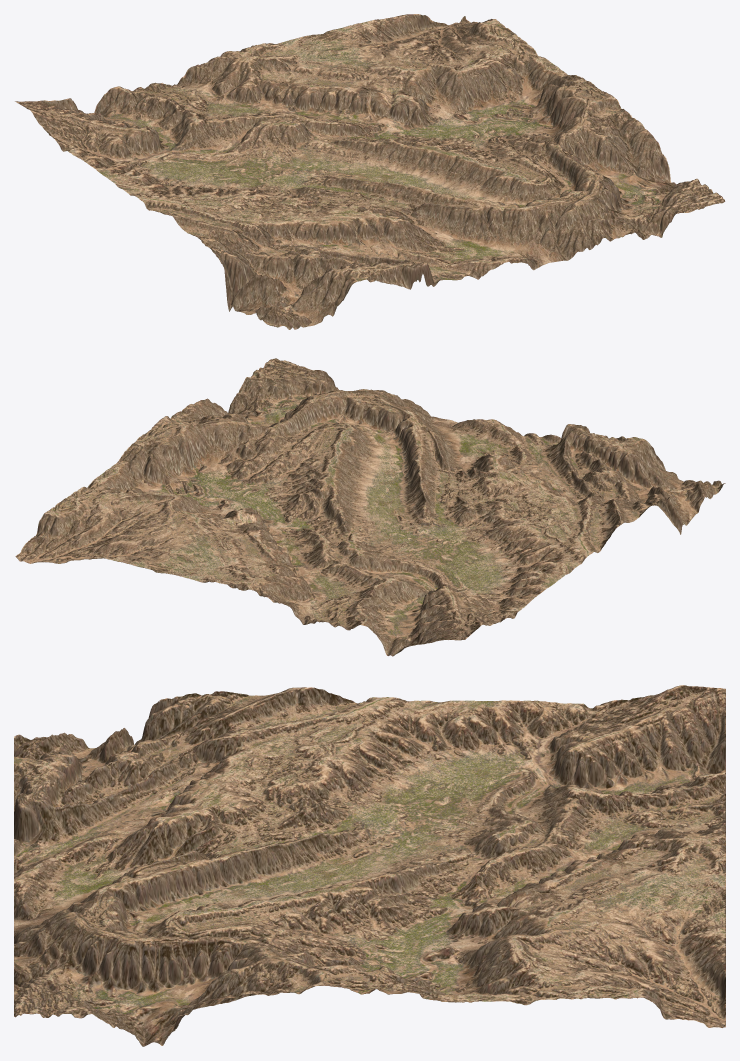
The model's file is terrain.glb.
The picture shows the model from 3 angles, top to bottom: view 1: azimuth 30°, elevation 25°; view 2: azimuth 150°, elevation 25°; view 3: azimuth 270°, elevation 25°; orthographic projection. The views are drawn at different scales.
Visible parts, largest first — view 1: _gltfNode_0, _gltfNode_1, _gltfNode_2; view 2: _gltfNode_1, _gltfNode_0, _gltfNode_2; view 3: _gltfNode_0, _gltfNode_1, _gltfNode_2.
Boxes of the visible parts, bbox=[...] form: _gltfNode_0: bbox=[15, 14, 725, 329]; _gltfNode_1: bbox=[16, 16, 627, 221]; _gltfNode_2: bbox=[17, 18, 546, 325]; _gltfNode_1: bbox=[16, 412, 627, 654]; _gltfNode_0: bbox=[15, 358, 725, 656]; _gltfNode_2: bbox=[19, 441, 722, 652]; _gltfNode_0: bbox=[14, 688, 725, 1046]; _gltfNode_1: bbox=[279, 687, 722, 1027]; _gltfNode_2: bbox=[16, 685, 718, 1026].
Size of the model in its own units: 2 by 0.2409 by 2.
Materials: 1 (1 with a texture image).
